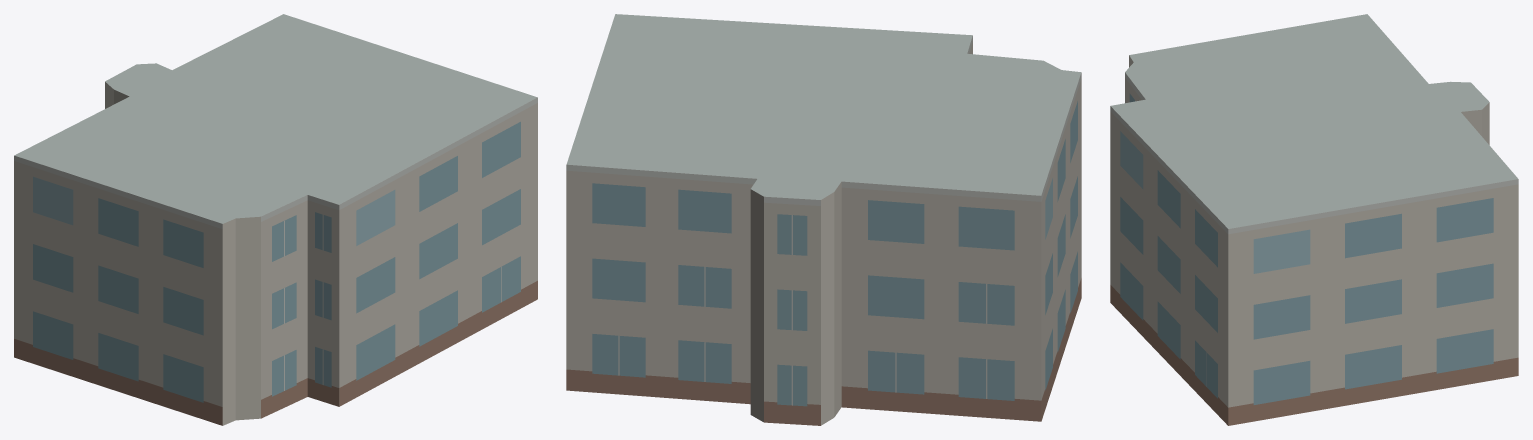
File: survey-upis-33020649.glb
3 views of the same model, side by side, from view 1: azimuth 30°, elevation 25°; view 2: azimuth 150°, elevation 25°; view 3: azimuth 270°, elevation 25° (orthographic). The views are drawn at different scales.
Parts seen in each view (by area): view 1: survey-upis-33020649.tmp; view 2: survey-upis-33020649.tmp; view 3: survey-upis-33020649.tmp.
Part boxes in pixels (x1=…): survey-upis-33020649.tmp: x1=14, y1=14, x2=537, y2=425; survey-upis-33020649.tmp: x1=566, y1=14, x2=1081, y2=425; survey-upis-33020649.tmp: x1=1110, y1=14, x2=1518, y2=425.
Size of the model in its own units: 21.46 by 9.15 by 17.21.
